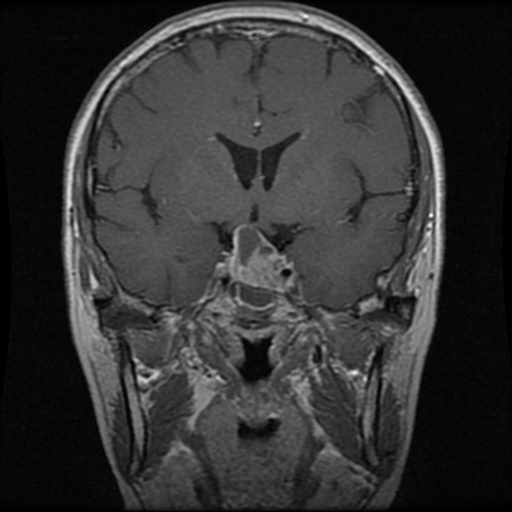pituitary: (231, 225, 285, 309)
